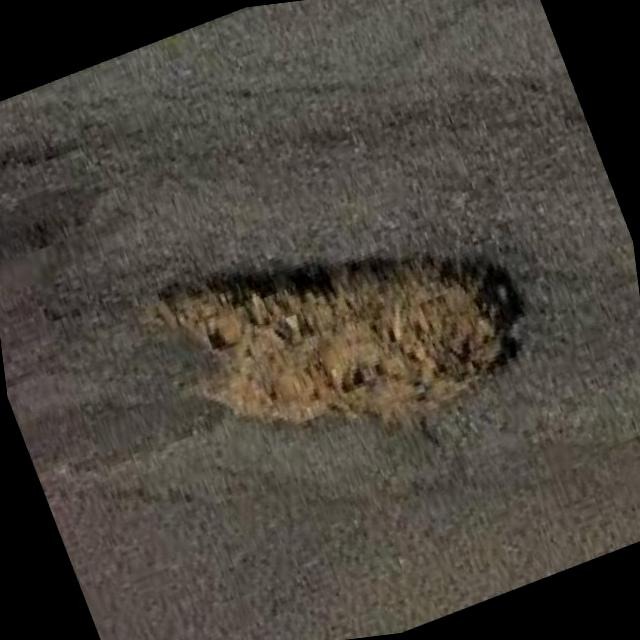Pathole: (138, 249, 531, 430)
